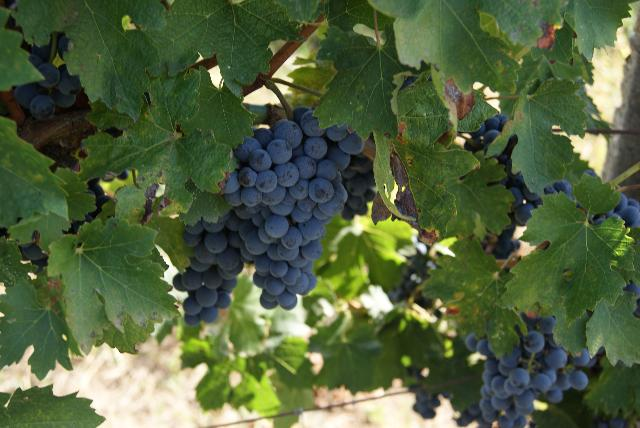grapes: (230, 106, 364, 309), (465, 314, 594, 428), (172, 210, 242, 328)
